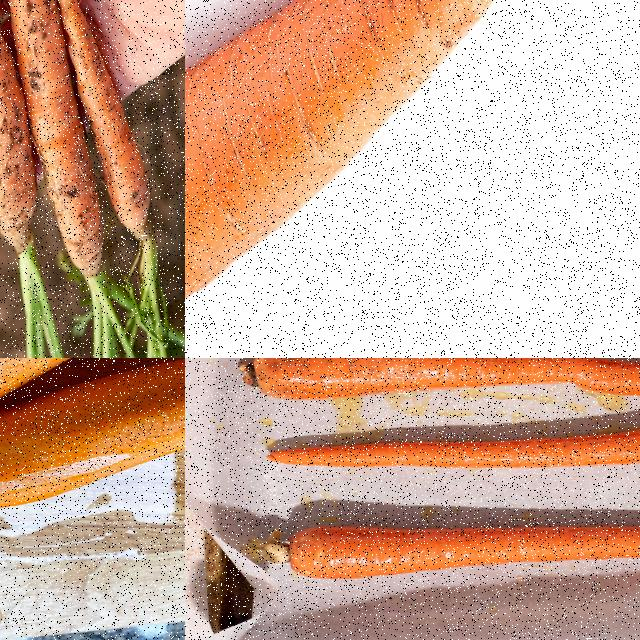carrot: (185, 0, 639, 355), (0, 0, 170, 299), (0, 358, 184, 516), (279, 521, 639, 583), (266, 418, 639, 471), (250, 358, 639, 401), (0, 358, 184, 439)
